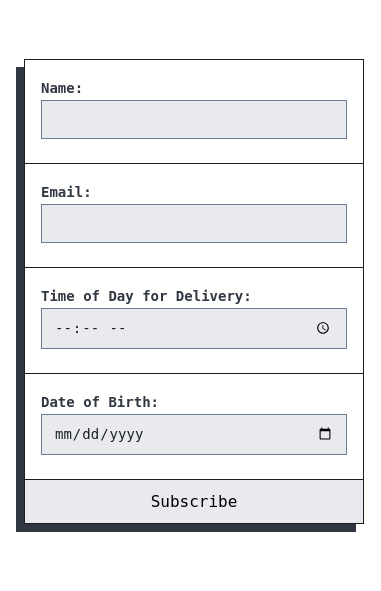
should display error when email is invalid
Type "TestName" into the field labelled "Name:" at (194, 119), box [41,100,347,138]
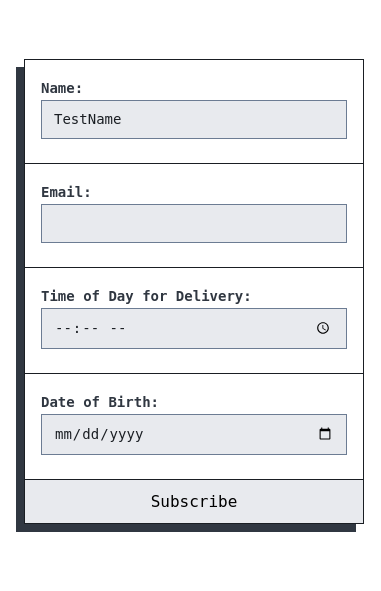
Type "invalidEmail" into the field labelled "Email:" at (194, 223), box [41,204,347,242]
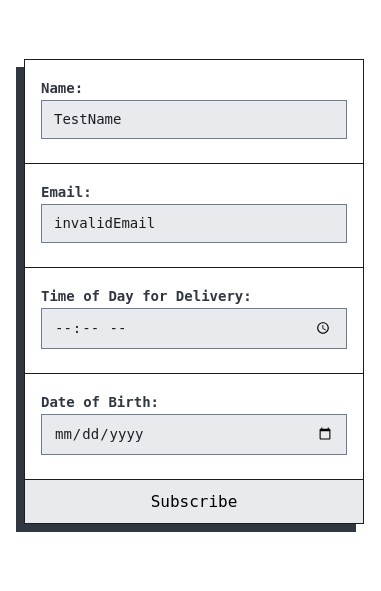
Type "22:00" into the time field labelled "Time of Day for Delivery:" at (194, 328), box [41,308,347,348]
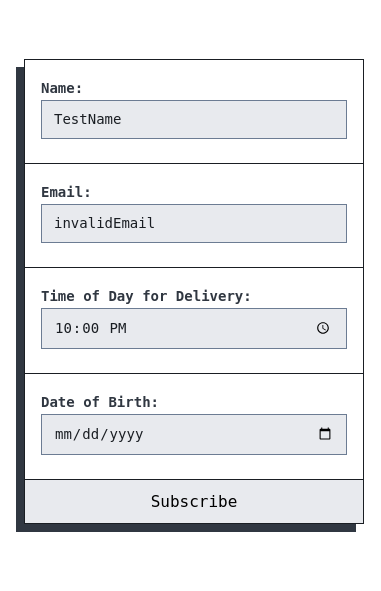
Type "2024-07-11" into the date field labelled "Date of Birth:" at (194, 434), box [41,414,347,454]
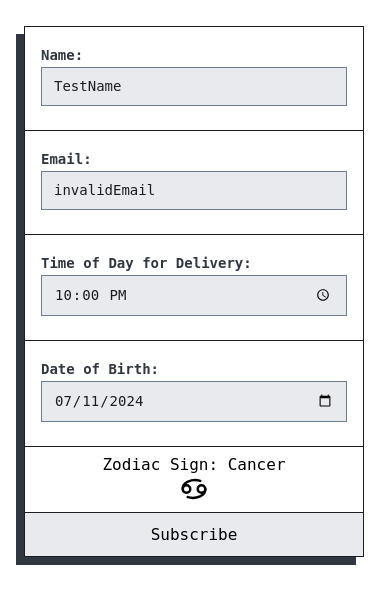
Submit the form from the button, box [25,512,363,556]
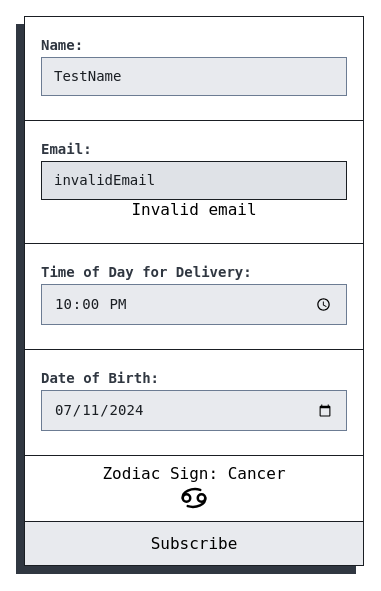
Check: the number of messages is 1, box [131,200,257,219]
